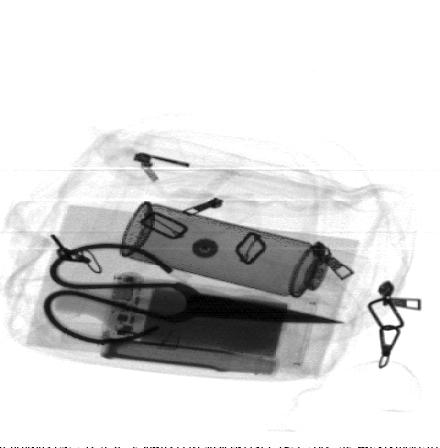Lighter: (131, 149, 193, 175)
Powerbank: (103, 273, 320, 371)
Scissors: (43, 242, 343, 346)
Sprayer: (119, 200, 329, 297)
